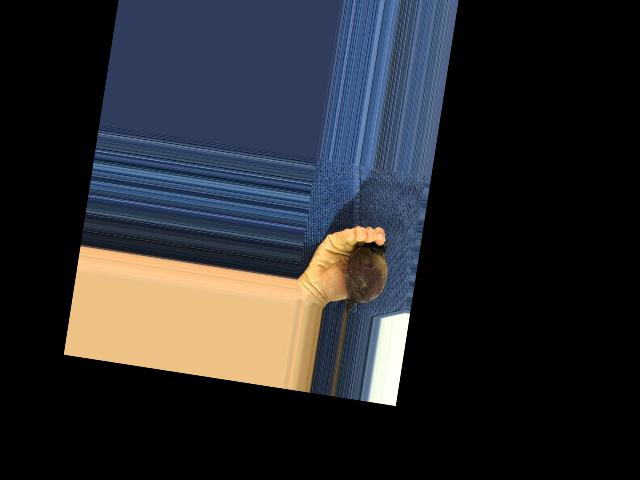beet: (338, 233, 392, 317)
